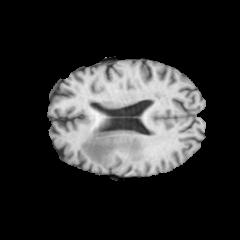glioma: (81, 130, 145, 165)
